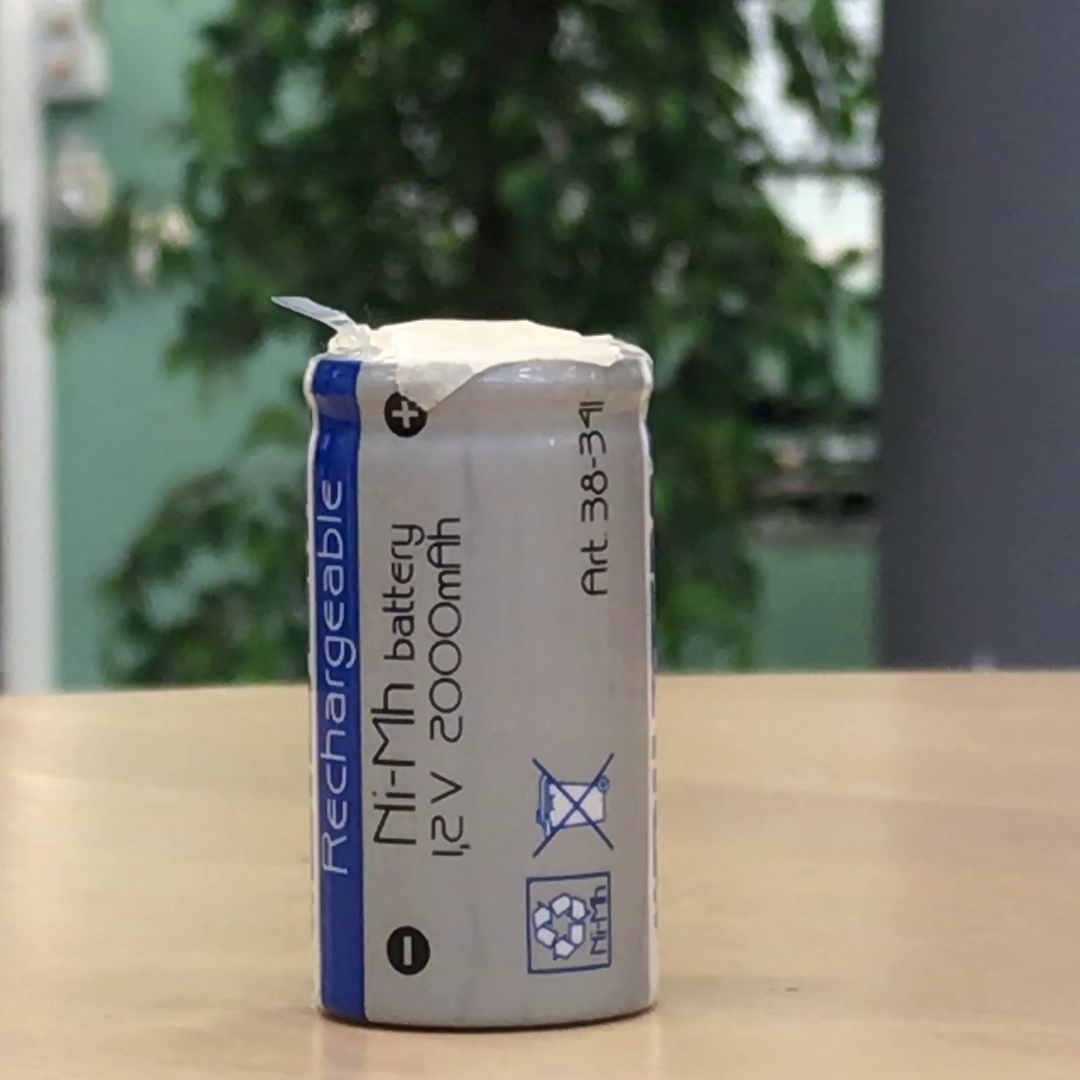keyword: (360, 673, 427, 855)
